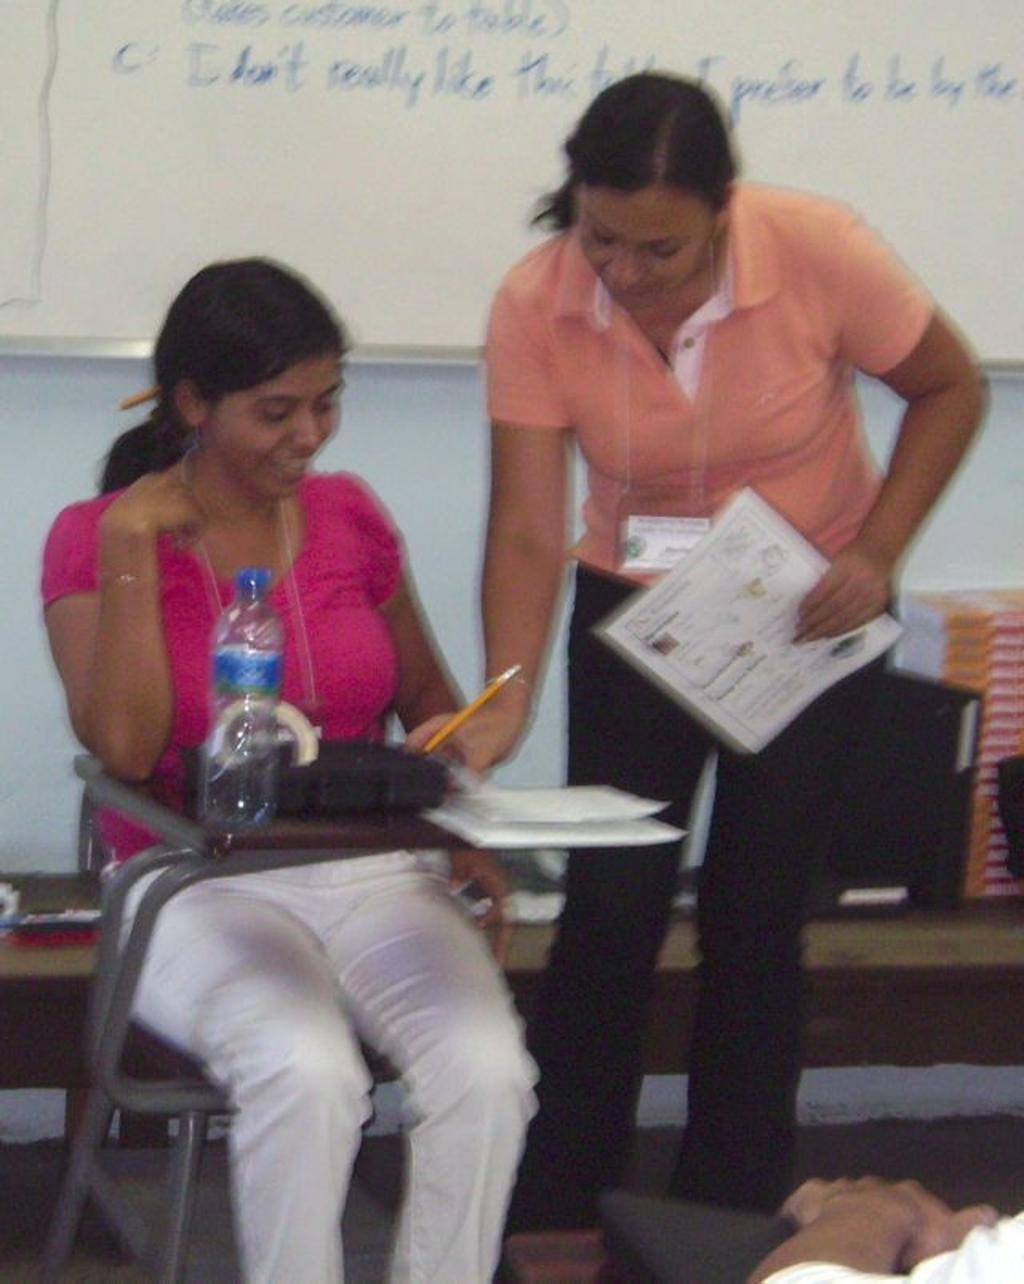face: (218, 356, 338, 499), (576, 188, 709, 313)
